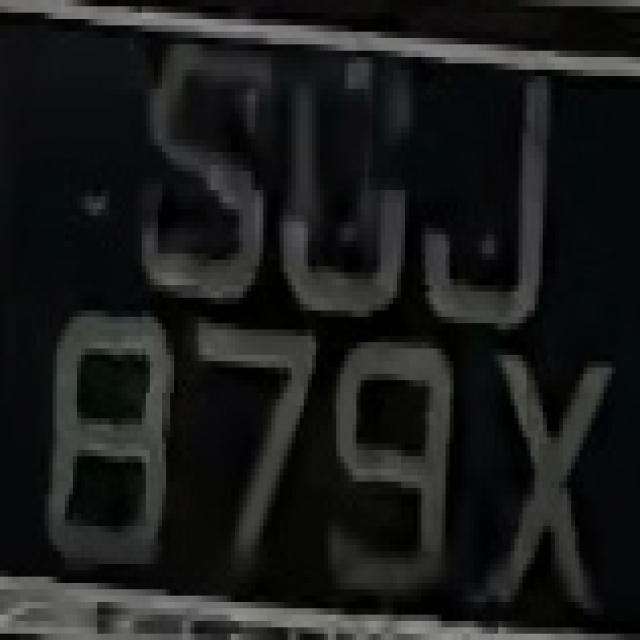7: (174, 317, 332, 589)
8: (41, 266, 178, 589)
9: (316, 323, 466, 634)
G: (276, 38, 434, 349)
J: (426, 70, 576, 310)
S: (133, 7, 280, 330)
X: (482, 317, 624, 640)
